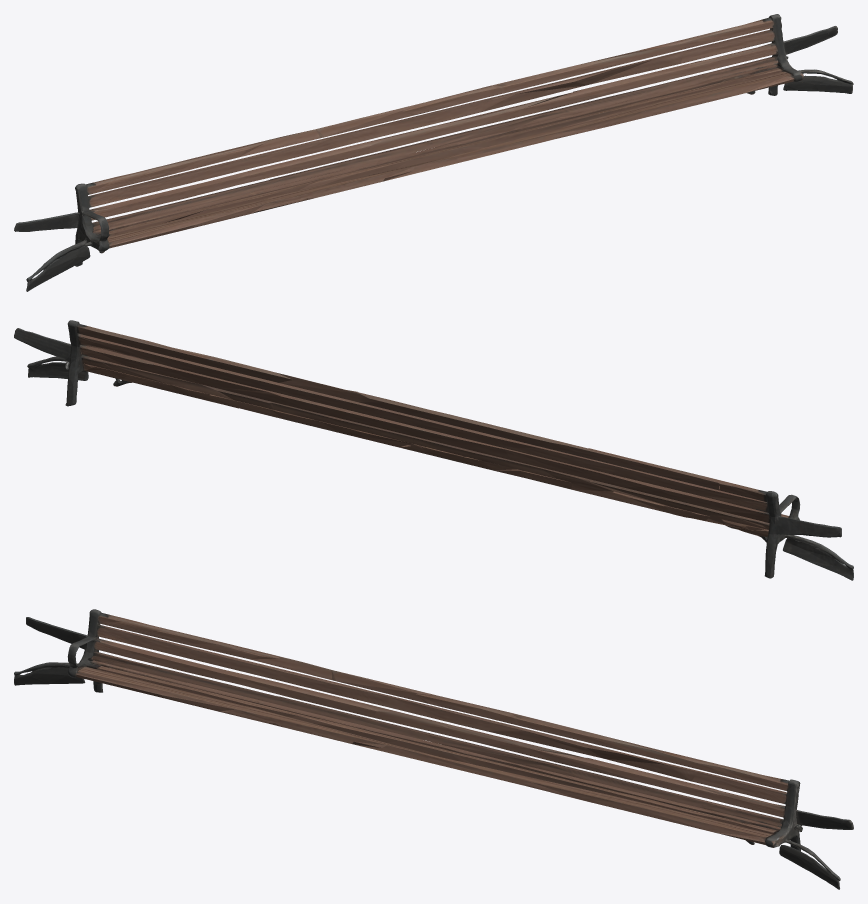
The model's file is promenade-bench.glb.
The picture shows the model from 3 angles, top to bottom: view 1: azimuth 30°, elevation 25°; view 2: azimuth 150°, elevation 25°; view 3: azimuth 330°, elevation 25°; orthographic projection.
Parts seen in each view (by area): view 1: Mesh_0; view 2: Mesh_0; view 3: Mesh_0.
Boxes of the visible parts, x1=… form: Mesh_0: x1=14, y1=14, x2=853, y2=291; Mesh_0: x1=14, y1=320, x2=853, y2=580; Mesh_0: x1=14, y1=609, x2=853, y2=889.
Bounding box in the file's own units: 1.9 × 0.1844 × 0.1156.
Materials: 1 (1 with a texture image).
